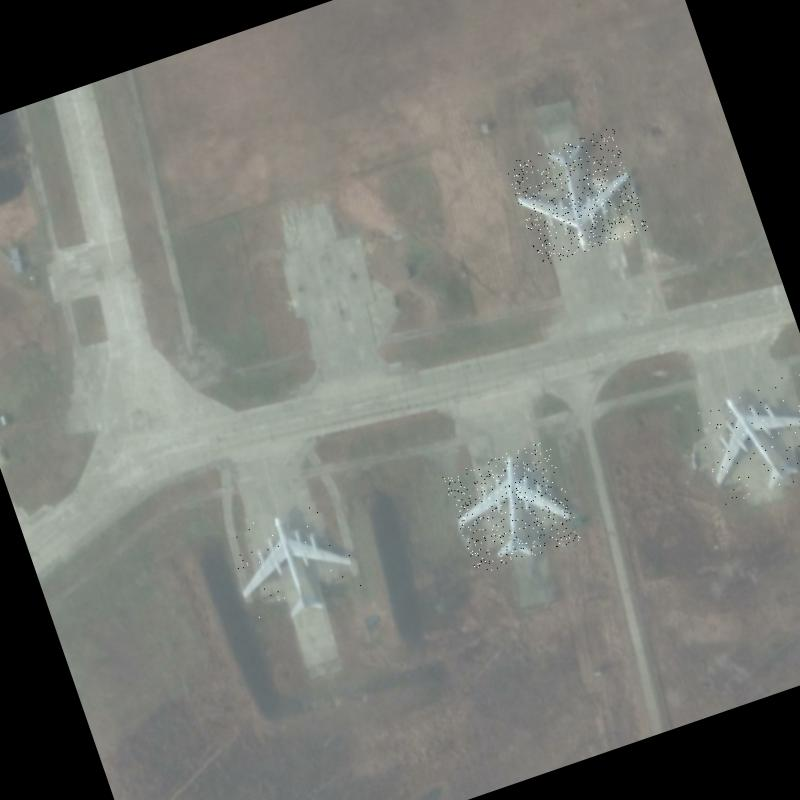A17: (505, 127, 649, 268), (222, 494, 366, 632), (442, 439, 582, 576), (690, 369, 800, 507)
